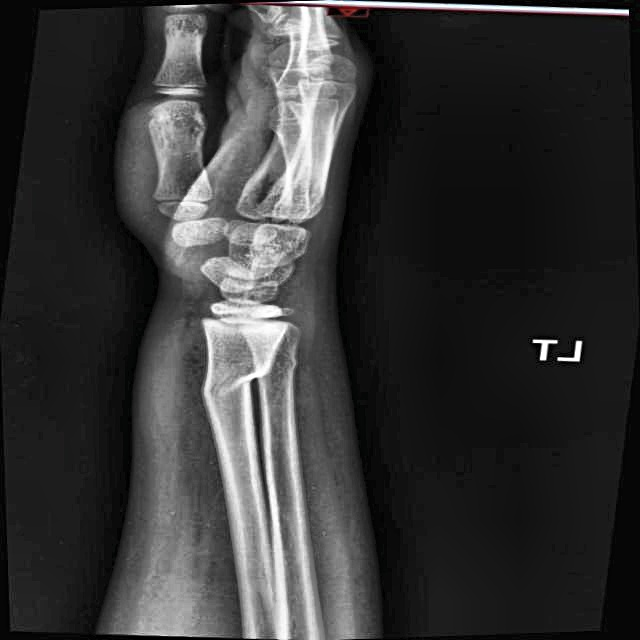Greenstick: (217, 341, 294, 396)
